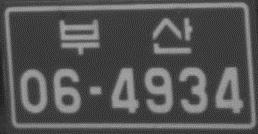-: (87, 82, 105, 98)
0: (19, 66, 49, 116)
3: (177, 66, 208, 113)
4: (108, 65, 140, 115), (214, 65, 243, 116)
6: (51, 66, 82, 116)
9: (143, 66, 174, 116)
부산_D: (57, 15, 195, 57)
